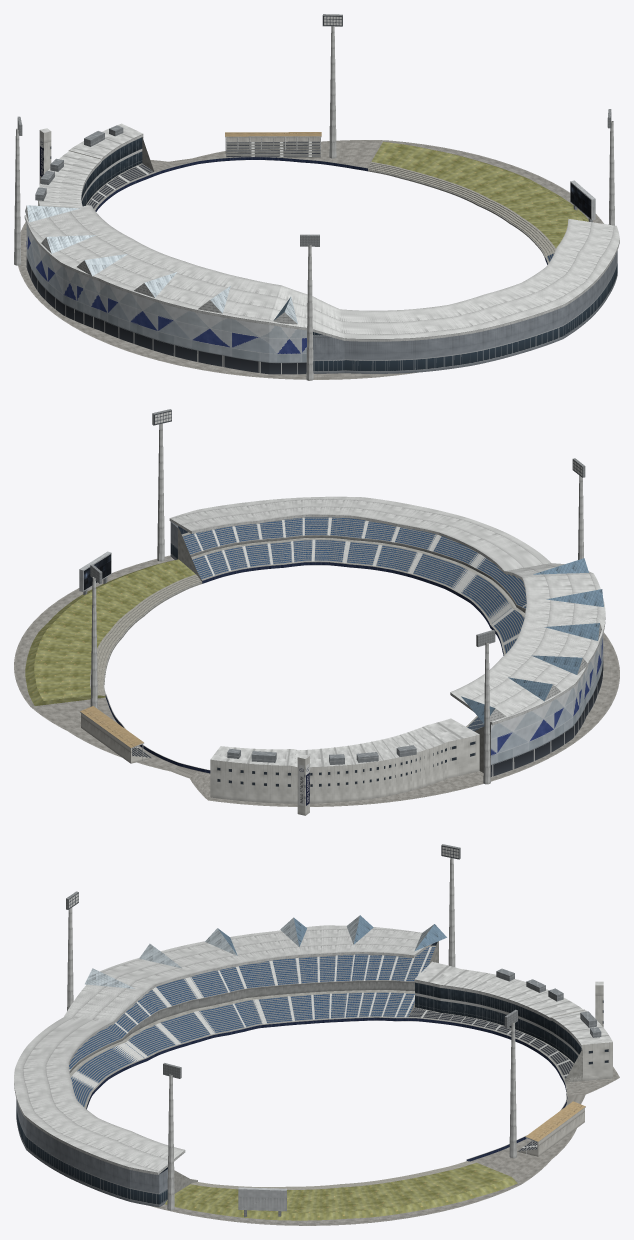
Rendered from bellerive.glb.
3 renders of one model, top to bottom at view 1: azimuth 30°, elevation 25°; view 2: azimuth 150°, elevation 25°; view 3: azimuth 270°, elevation 25°, orthographic. The views are drawn at different scales.
Visible parts, largest first — view 1: main_stand, east_terrace, members, apron, light_towers, ponting_skylights, northern_stand, fence_348, scoreboard; view 2: main_stand, members, east_terrace, apron, light_towers, ponting_skylights, northern_stand, scoreboard; view 3: main_stand, members, east_terrace, apron, light_towers, ponting_skylights, northern_stand, scoreboard.
Boxes of the visible parts, left/top/right/bottom form: main_stand: left=24, top=205, right=619, bottom=374; east_terrace: left=368, top=141, right=588, bottom=258; members: left=35, top=123, right=155, bottom=211; apron: left=18, top=140, right=603, bottom=379; light_towers: left=14, top=14, right=614, bottom=380; ponting_skylights: left=25, top=205, right=297, bottom=324; northern_stand: left=225, top=132, right=321, bottom=157; fence_348: left=155, top=156, right=367, bottom=175; scoreboard: left=570, top=180, right=595, bottom=222; main_stand: left=169, top=496, right=605, bottom=776; members: left=210, top=718, right=479, bottom=815; east_terrace: left=25, top=559, right=202, bottom=705; apron: left=14, top=555, right=619, bottom=806; light_towers: left=90, top=409, right=585, bottom=784; ponting_skylights: left=461, top=558, right=603, bottom=723; northern_stand: left=80, top=706, right=152, bottom=763; scoreboard: left=79, top=551, right=111, bottom=594; main_stand: left=14, top=925, right=438, bottom=1207; members: left=407, top=961, right=612, bottom=1082; east_terrace: left=165, top=1161, right=517, bottom=1220; apron: left=104, top=1020, right=619, bottom=1225; light_towers: left=66, top=844, right=517, bottom=1210; ponting_skylights: left=85, top=915, right=446, bottom=988; northern_stand: left=517, top=1101, right=585, bottom=1156; scoreboard: left=238, top=1187, right=286, bottom=1217.
Size of the model in its own units: 206 by 55.22 by 212.
30 materials, 30 textured.
